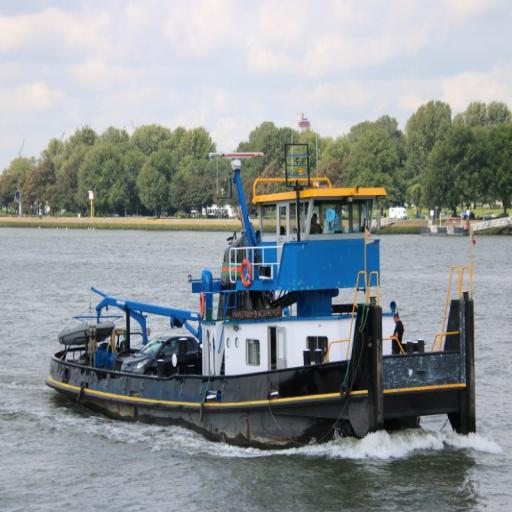tugboat: (42, 138, 482, 471)
